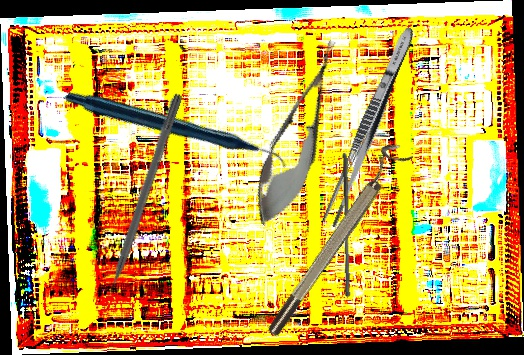Dressing Forceps: (319, 23, 420, 230)
Fixation Ring: (254, 137, 415, 341)
Handpiece: (63, 14, 288, 249)
Micro Scissor: (241, 32, 356, 234)
Pusher: (96, 91, 184, 316), (337, 152, 355, 298)
